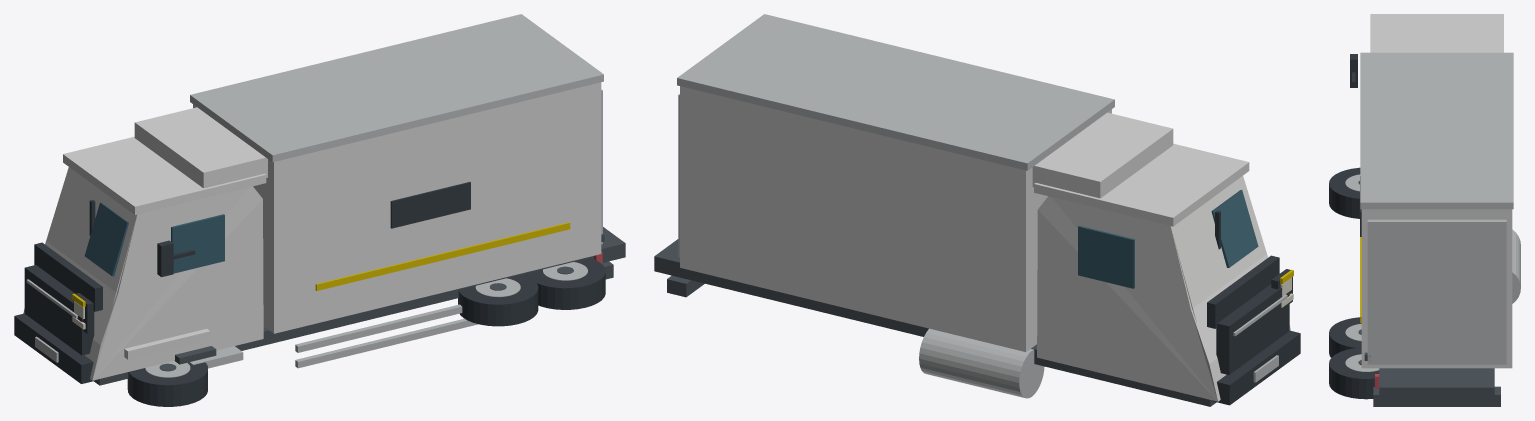
Rendered from ZAZOHAN_YH10_CONCEPT_V2.glb.
3 views of the same model, side by side, from view 1: azimuth 30°, elevation 25°; view 2: azimuth 150°, elevation 25°; view 3: azimuth 270°, elevation 25° (orthographic). The views are drawn at different scales.
Parts seen in each view (by area): view 1: CargoBox, CargoRoof, CabShell, CabRoof, RoofDeflector, Chassis, MainGrille, Tyre1, Tyre0, Tyre2, SideGlassR, BrandPanel (+11 smaller); view 2: CargoBox, CargoRoof, CabShell, CabRoof, RoofDeflector, FuelTank, Chassis, MainGrille, SideGlassL, LowerBumper, UpperBlack, Windshield; view 3: CargoRoof, RearDoor, CargoBox, Chassis, RoofDeflector, CabRoof, Tyre2, Tyre0, RearBumper, Tyre1, FuelTank, Rim2 (+3 smaller).
Boxes of the visible parts, box(x1,y1,x2,y2) form: CargoBox: box(193, 82, 601, 333); CargoRoof: box(190, 14, 603, 162); CabShell: box(23, 167, 263, 380); CabRoof: box(63, 136, 266, 214); RoofDeflector: box(134, 107, 267, 188); Chassis: box(94, 227, 625, 385); MainGrille: box(24, 265, 94, 355); Tyre1: box(458, 274, 538, 326); Tyre0: box(127, 362, 207, 406); Tyre2: box(526, 258, 605, 309); SideGlassR: box(171, 214, 224, 273); BrandPanel: box(390, 182, 470, 228); CargoBox: box(680, 86, 1111, 351); CargoRoof: box(677, 14, 1114, 170); CabShell: box(1037, 176, 1290, 401); CabRoof: box(1034, 143, 1249, 226); RoofDeflector: box(1032, 112, 1173, 198); FuelTank: box(919, 328, 1044, 398); Chassis: box(654, 239, 1216, 406); MainGrille: box(1216, 284, 1289, 374); SideGlassL: box(1078, 225, 1134, 288); LowerBumper: box(1211, 330, 1300, 405); UpperBlack: box(1207, 255, 1279, 328); Windshield: box(1211, 190, 1258, 267); CargoRoof: box(1360, 52, 1513, 209); RearDoor: box(1367, 219, 1506, 364); CargoBox: box(1361, 209, 1512, 368); Chassis: box(1379, 368, 1494, 400); RoofDeflector: box(1373, 31, 1500, 52); CabRoof: box(1370, 14, 1503, 52); Tyre2: box(1329, 347, 1379, 399); Tyre0: box(1329, 167, 1360, 218); RearBumper: box(1373, 386, 1500, 406); Tyre1: box(1329, 317, 1361, 357); FuelTank: box(1512, 229, 1520, 303); Rim2: box(1345, 354, 1379, 371).
Bounding box in the file's own units: 8.97 × 3.55 × 2.93.
